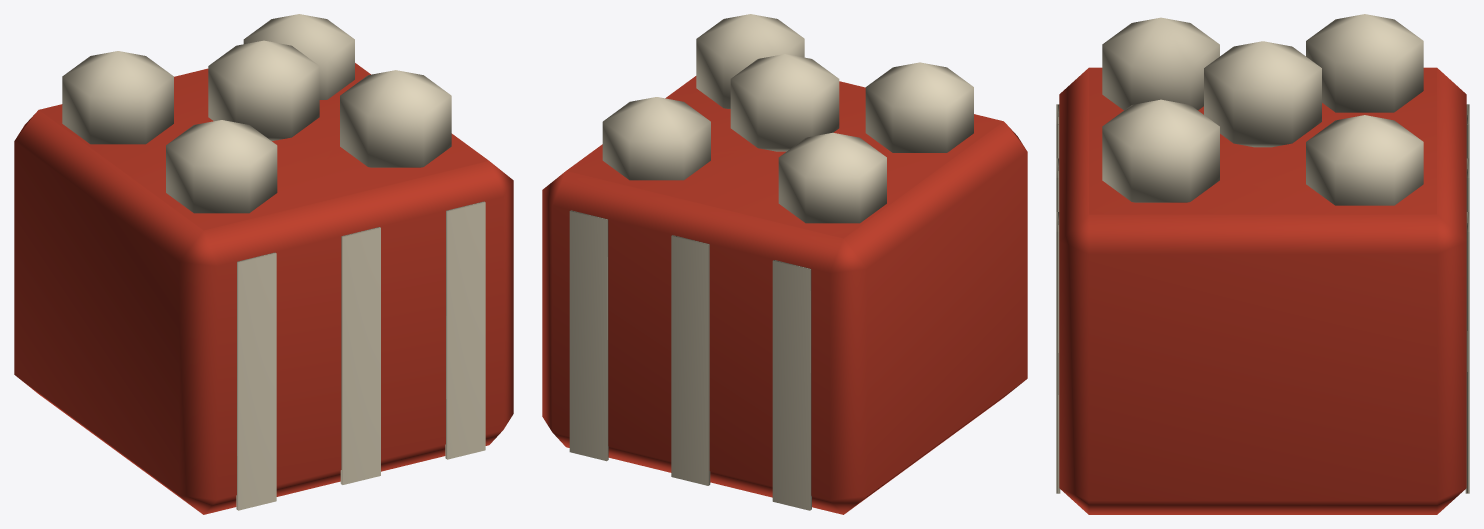
The model's file is cargo_popcorn.glb.
3 renders of one model, left to right at view 1: azimuth 30°, elevation 25°; view 2: azimuth 150°, elevation 25°; view 3: azimuth 270°, elevation 25°, orthographic. The views are drawn at different scales.
Parts seen in each view (by area): view 1: cargo_popcorn; view 2: cargo_popcorn; view 3: cargo_popcorn.
Part boxes in pixels (x1,y1,x2,y2): cargo_popcorn: (14,14,513,514); cargo_popcorn: (542,14,1027,514); cargo_popcorn: (1056,14,1469,514).
Bounding box in the file's own units: 0.48 × 0.52 × 0.487.
